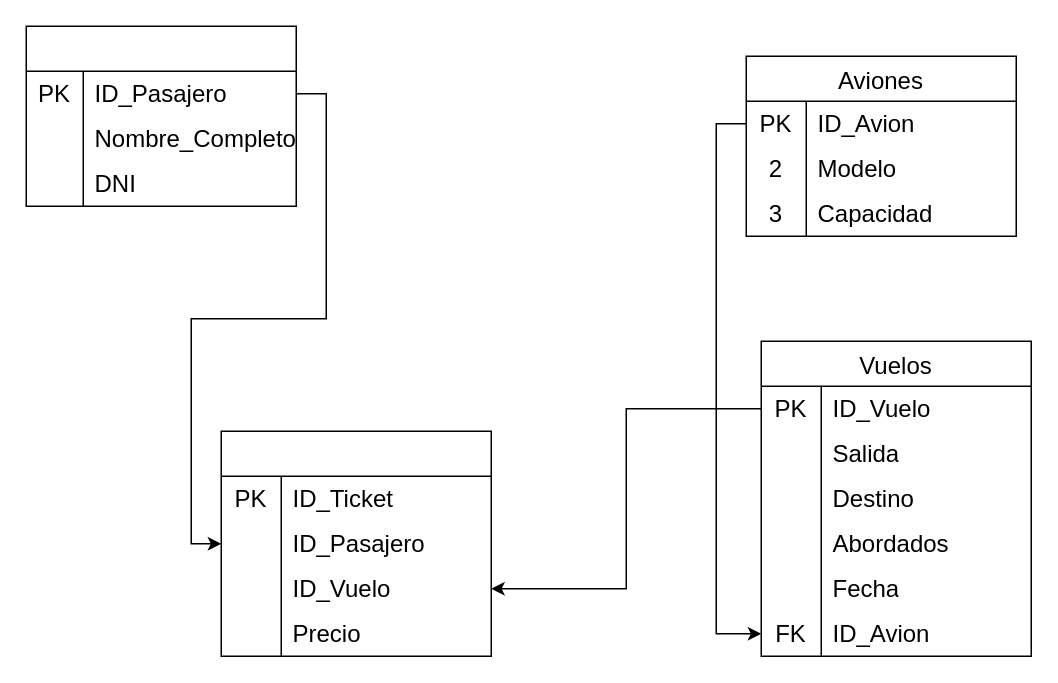
Image size: 1058x683. Some labels were removed from this diagram. Here are the shapes that lost their labels. From the top down, the box of each, then its label:
(25, 25, 296, 206): Pasajeros
(220, 430, 491, 656): Tickets
